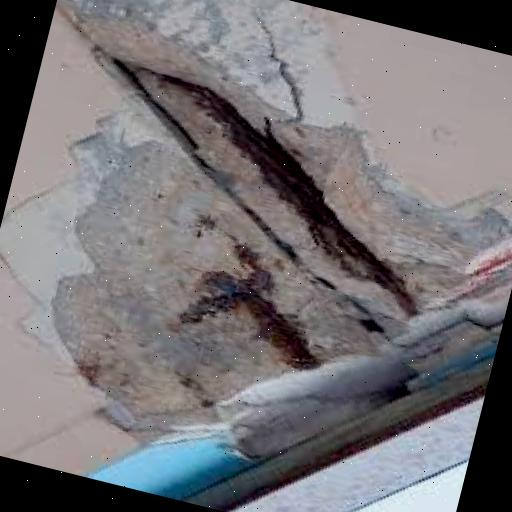spalling: (61, 14, 467, 427)
